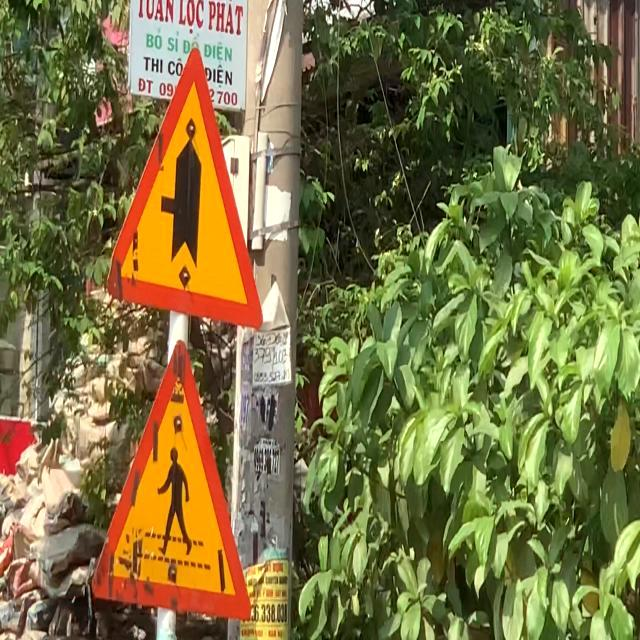Giao nhau voi duong khong uu tien ben trai: (95, 32, 269, 348)
Nguoi di bo cat ngang: (82, 327, 259, 640)
